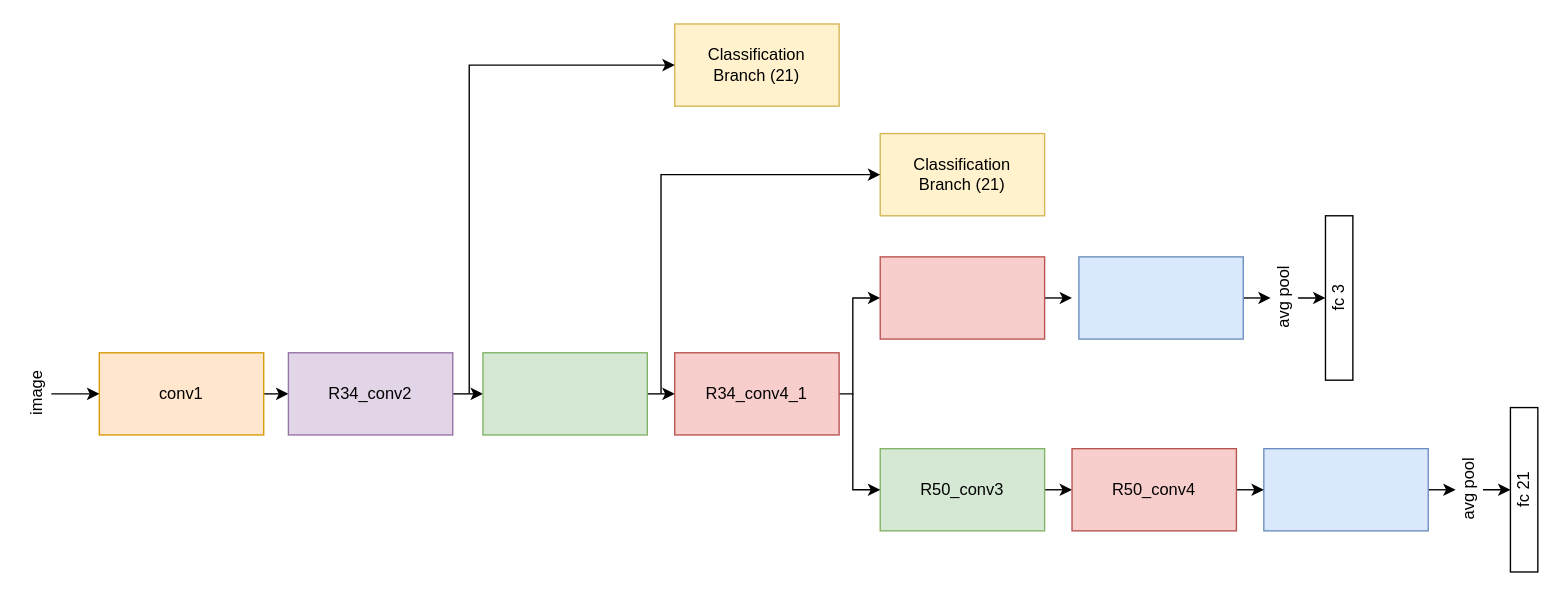
This 1562x596 diagram has some shape labels left out. Here are the shapes that lost their labels. From the top down, the centre of each, then its label:
At pixel 962 297: "R34_conv4_2-3-4-5-6".
At pixel 1160 297: "R34_conv5".
At pixel 564 393: "R34_conv3".
At pixel 1345 489: "R50_conv5".
